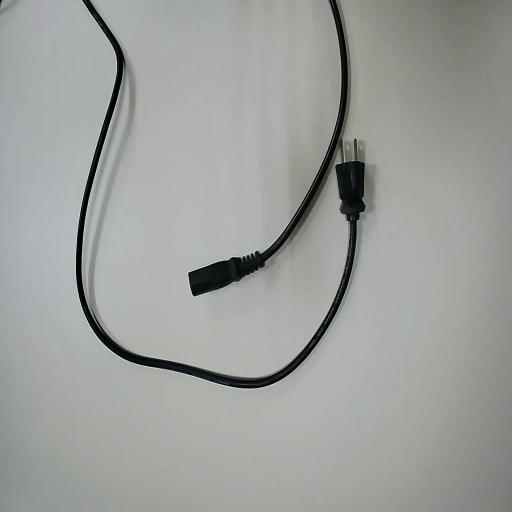wire: (77, 0, 364, 387), (190, 0, 347, 294)
